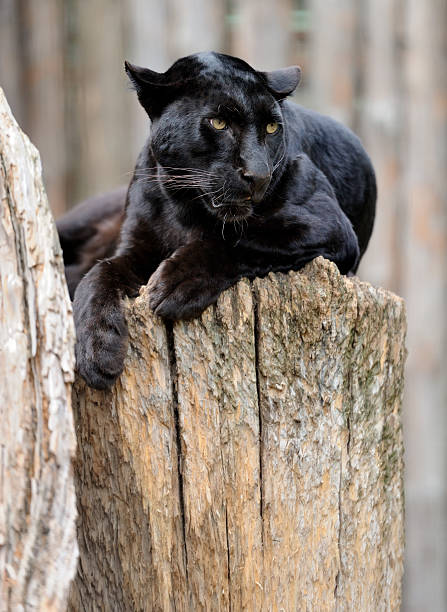panther: (108, 47, 322, 233)
